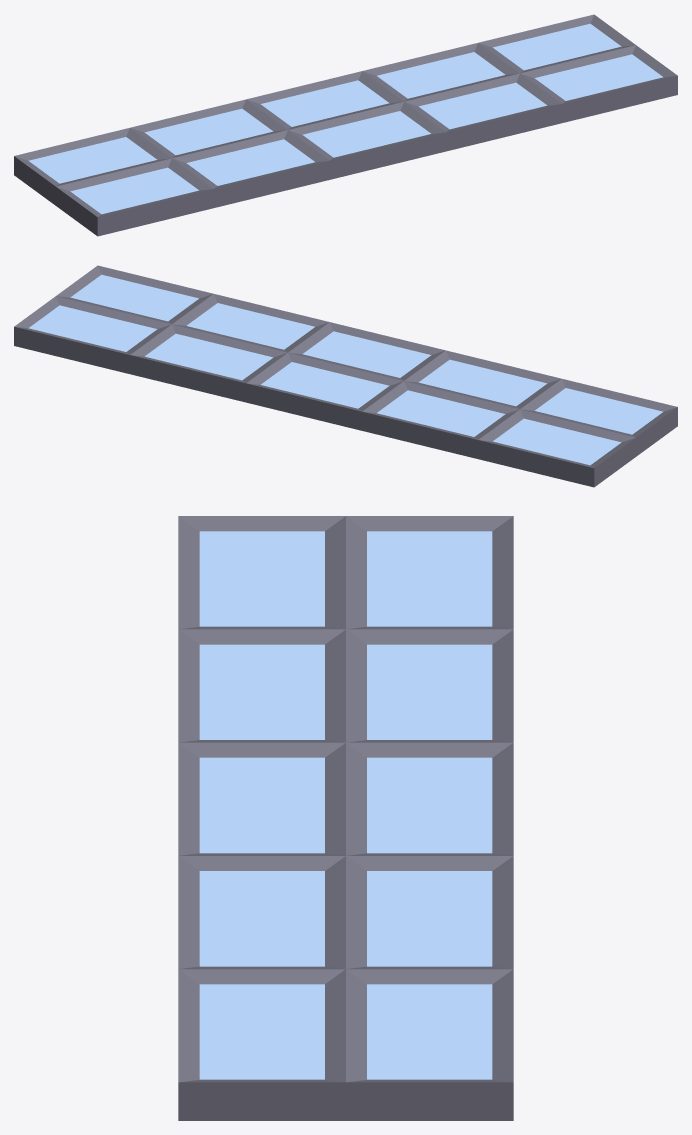
File: window.glb
3 views of the same model, one above another, from view 1: azimuth 30°, elevation 25°; view 2: azimuth 150°, elevation 25°; view 3: azimuth 270°, elevation 25° (orthographic). The views are drawn at different scales.
Visible parts, largest first — view 1: Window; view 2: Window; view 3: Window.
Part boxes in pixels (x1,y1,x2,y2): Window: (14,14,677,236); Window: (14,265,677,487); Window: (178,516,513,1120).
Bounding box in the file's own units: 8 × 0.2532 × 2.
